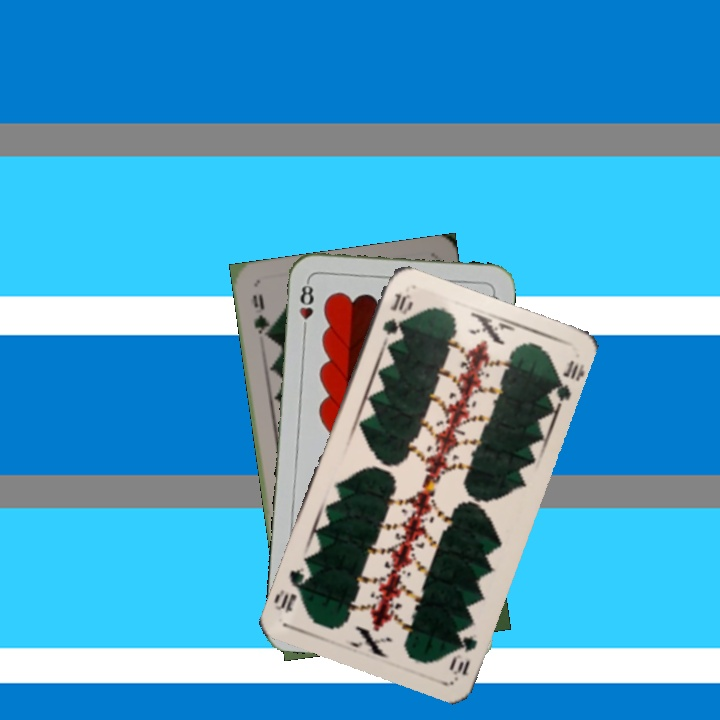G10: (378, 289, 412, 347), (445, 631, 480, 678)
G9: (248, 289, 274, 343)
H8: (295, 277, 316, 336)
